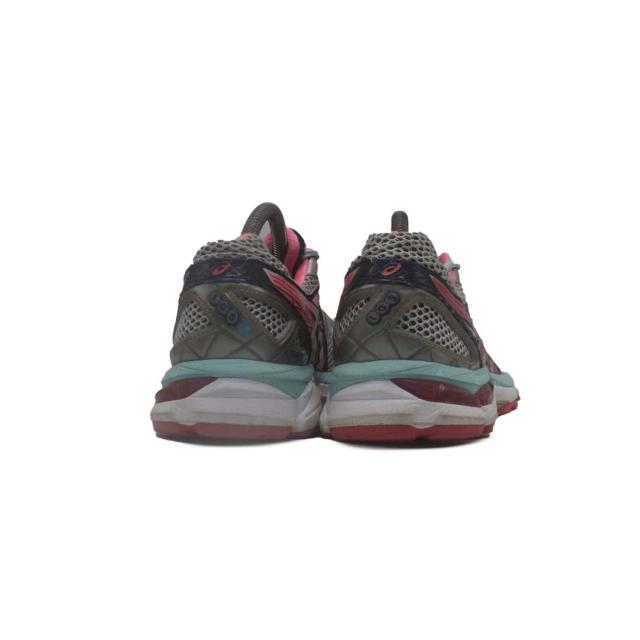heel: (345, 205, 477, 364), (175, 222, 304, 364)
midsole: (166, 364, 521, 440)
